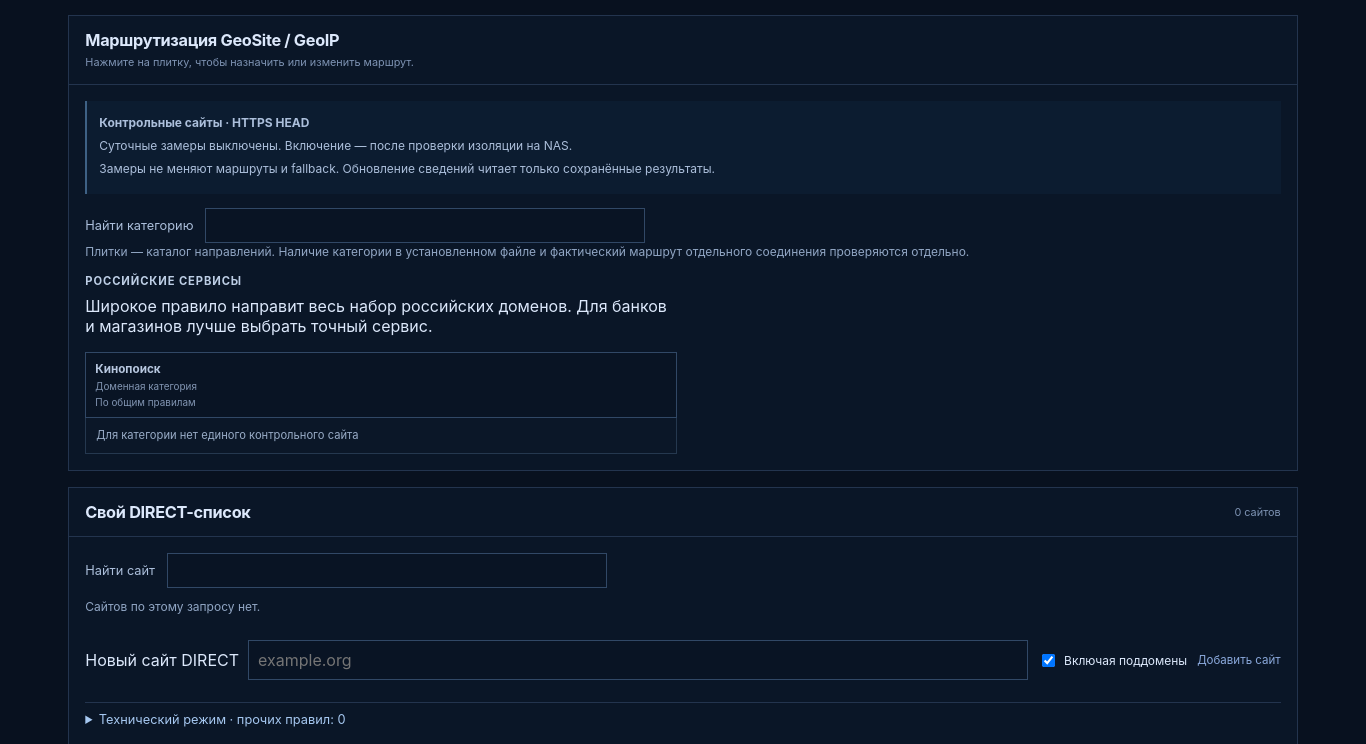
Test case: RulesPage › подтверждает добавленное правило после потери браузером ответа на reload Mihomo
The image size is (1366, 744).
(page scrolled)
Step 1. Click the button "Кинопоиск Доменная категория По общим правилам" → (128, 369), box [85,352,677,418]
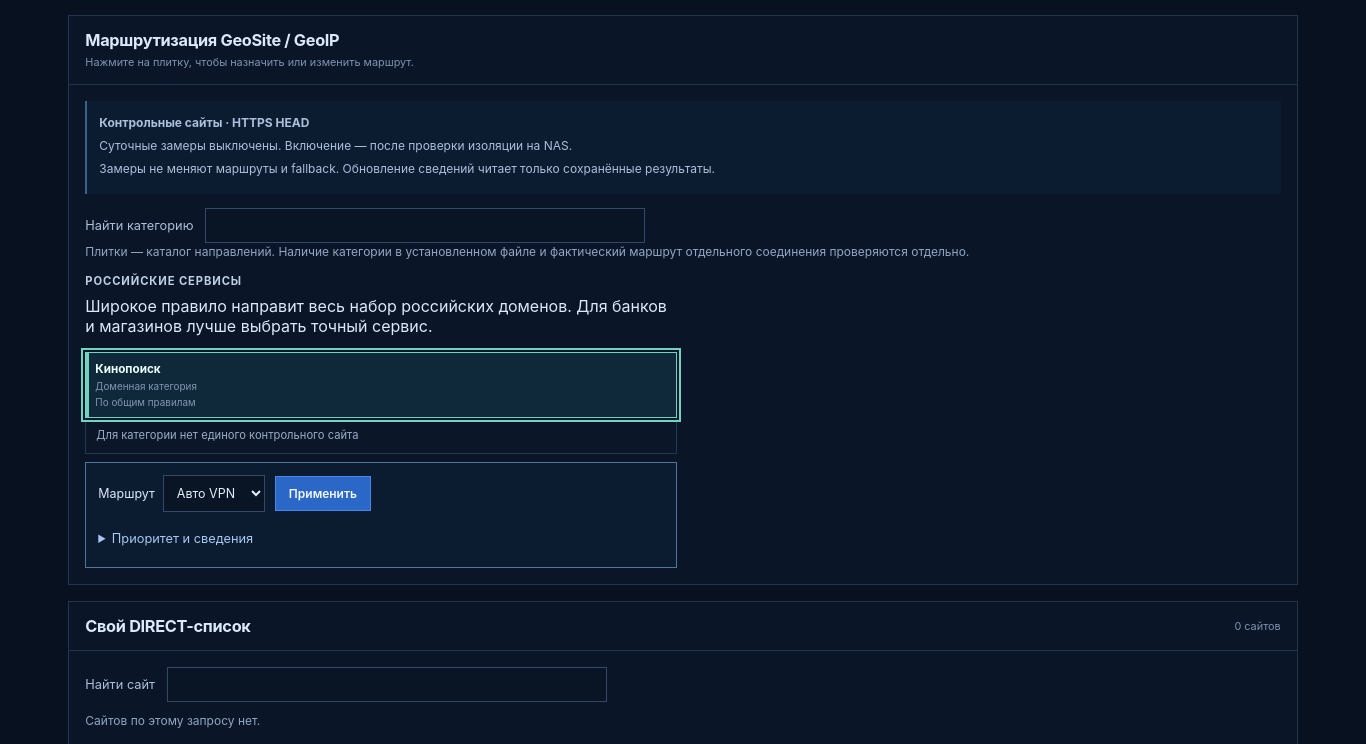
Step 2. Click the button "Применить" → (323, 493), box [275,476,371,510]
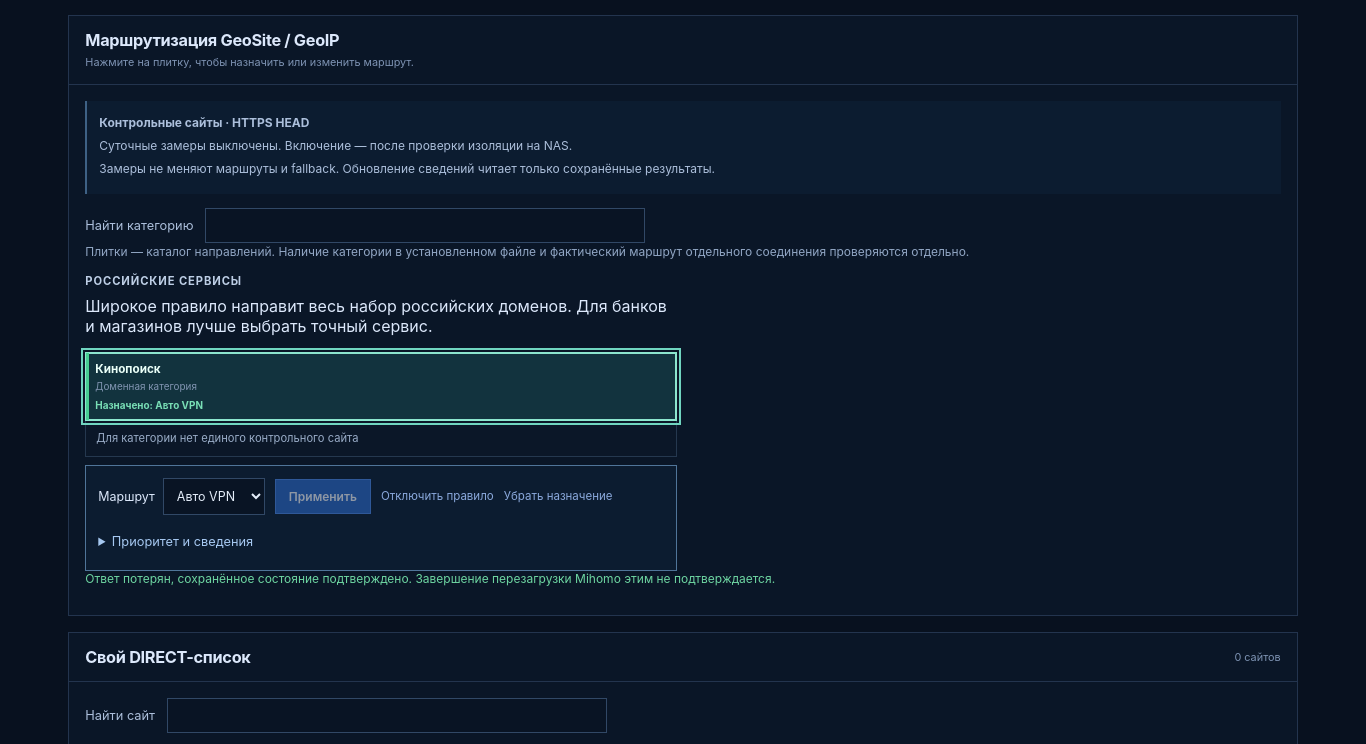
Expected: the text "Ответ потерян, сохранённое состояние подтверждено" is shown, [85,570,775,586]
